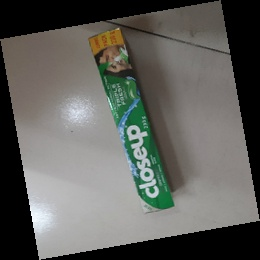CloseUp Xanh: (89, 26, 175, 216)
